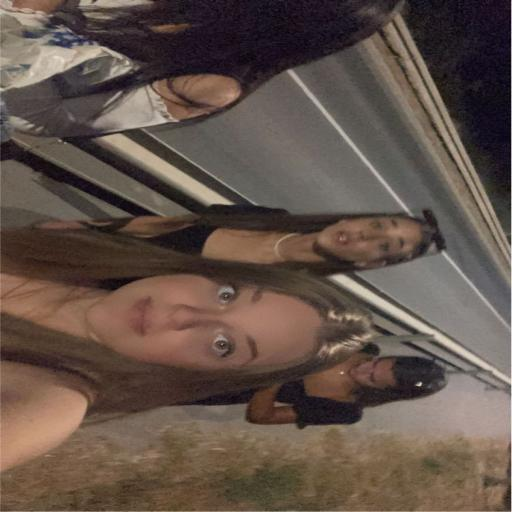masa: (316, 210, 432, 262)
